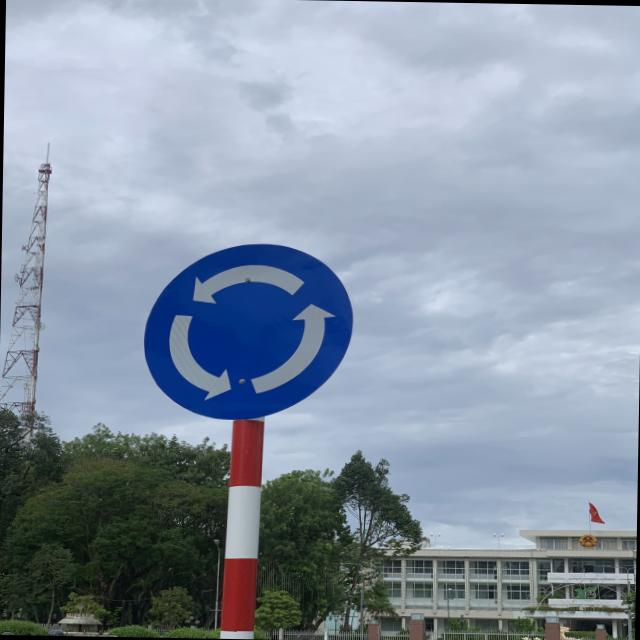Xe_Bus: (141, 240, 357, 423)
